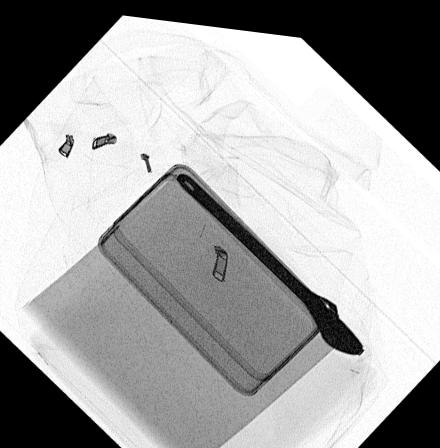Wrench: (175, 166, 369, 346)
